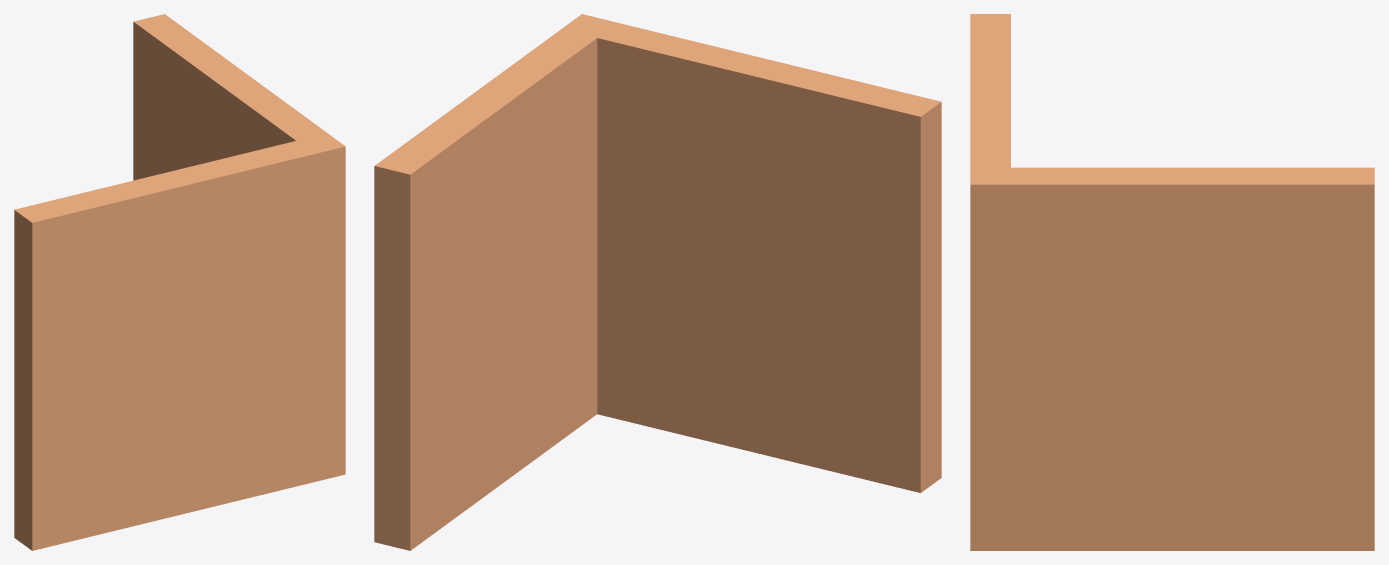
Rendered from Wall_002.fbx.
3 renders of one model, left to right at view 1: azimuth 30°, elevation 25°; view 2: azimuth 150°, elevation 25°; view 3: azimuth 270°, elevation 25°, orthographic. The views are drawn at different scales.
Parts seen in each view (by area): view 1: Wall.002; view 2: Wall.002; view 3: Wall.002.
Part boxes in pixels (box(x1,y1,x2,y2)): Wall.002: box(14, 14, 345, 550); Wall.002: box(374, 14, 941, 550); Wall.002: box(970, 14, 1374, 550).
Size of the model in its own units: 100 by 100 by 100.
